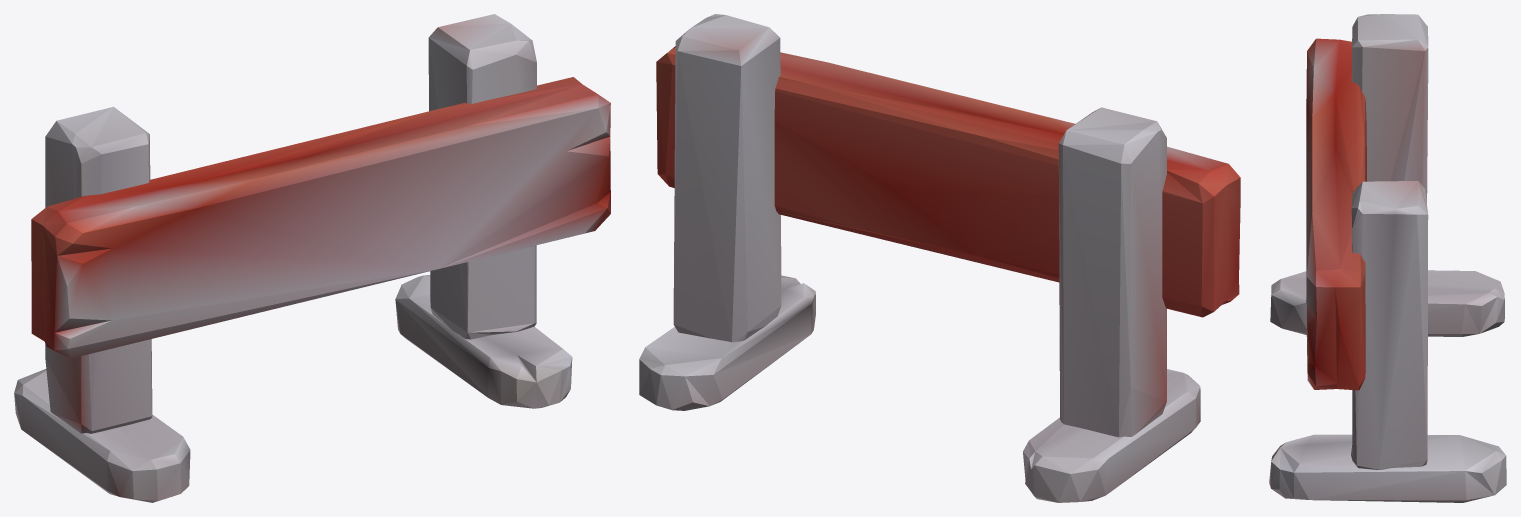
3 views of the same model, side by side, from view 1: azimuth 30°, elevation 25°; view 2: azimuth 150°, elevation 25°; view 3: azimuth 270°, elevation 25° (orthographic). The views are drawn at different scales.
Parts seen in each view (by area): view 1: geometry_0; view 2: geometry_0; view 3: geometry_0.
Boxes of the visible parts, <box> form: geometry_0: <box>14,14,610,502</box>; geometry_0: <box>639,14,1240,502</box>; geometry_0: <box>1269,14,1506,502</box>.
Size of the model in its own units: 0.9561 by 0.543 by 0.3956.
